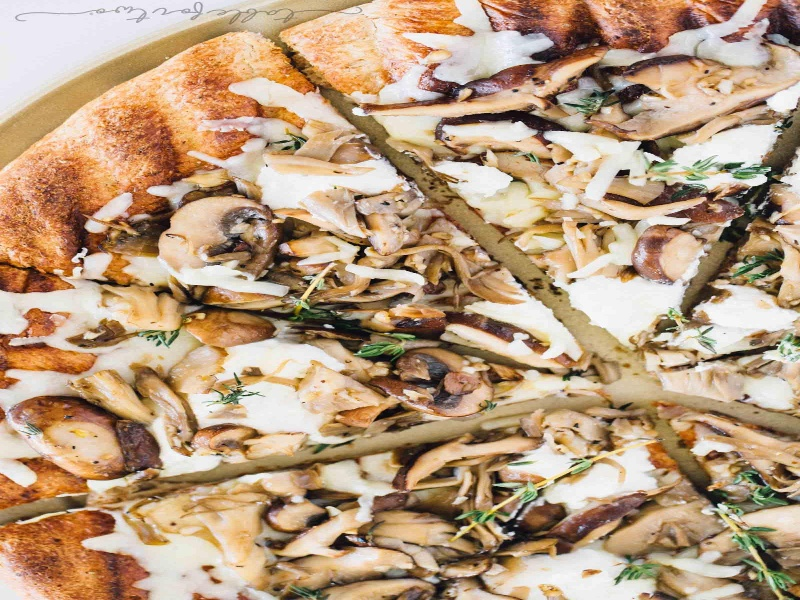champignon: (150, 191, 277, 278)
